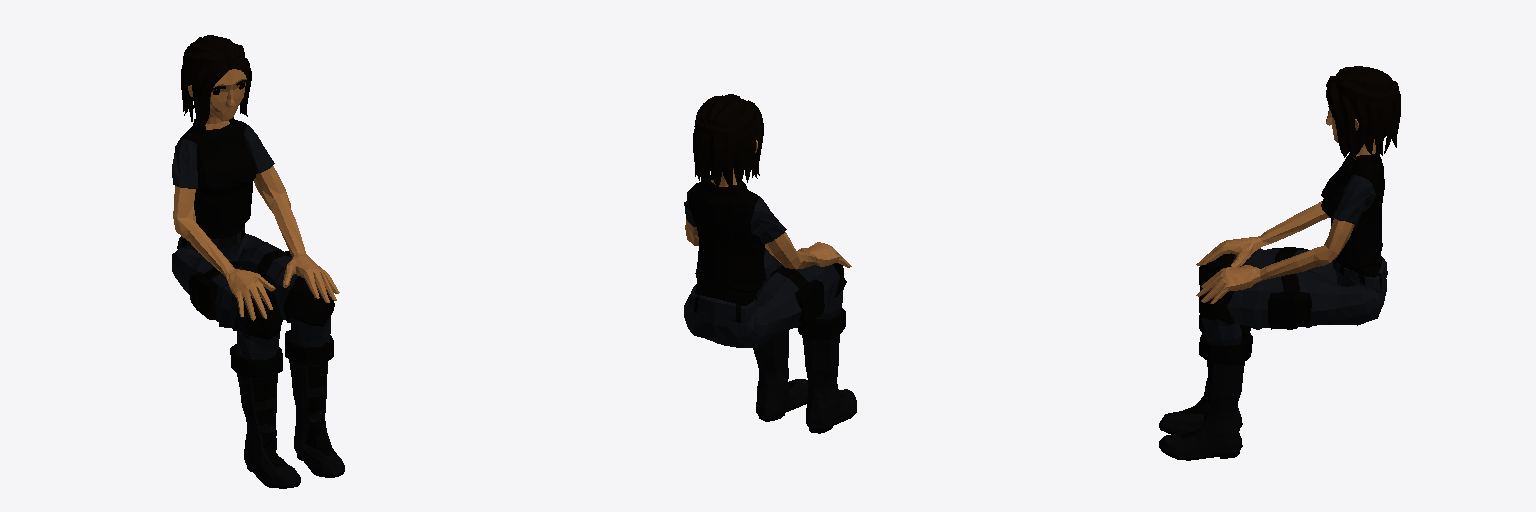
The model's file is w_soldier.obj.
3 views of the same model, side by side, from view 1: azimuth 30°, elevation 25°; view 2: azimuth 150°, elevation 25°; view 3: azimuth 270°, elevation 25° (orthographic).
Visible parts, largest first — view 1: Soldier_Body, Soldier_Legs, Soldier_Feet, Soldier_Head; view 2: Soldier_Body, Soldier_Legs, Soldier_Feet, Soldier_Head; view 3: Soldier_Body, Soldier_Legs, Soldier_Feet, Soldier_Head.
Part boxes in pixels (x1,y1,x2,y2): Soldier_Body: (172,117,339,320); Soldier_Legs: (172,226,334,359); Soldier_Feet: (230,330,344,488); Soldier_Head: (181,35,251,128); Soldier_Body: (684,175,851,305); Soldier_Legs: (684,248,846,347); Soldier_Feet: (753,308,856,433); Soldier_Head: (693,94,763,188); Soldier_Body: (1196,148,1384,303); Soldier_Legs: (1199,247,1387,345); Soldier_Feet: (1159,315,1252,460); Soldier_Head: (1326,66,1400,157).
Bounding box in the file's own units: 0.4298 × 1.34 × 0.7886.